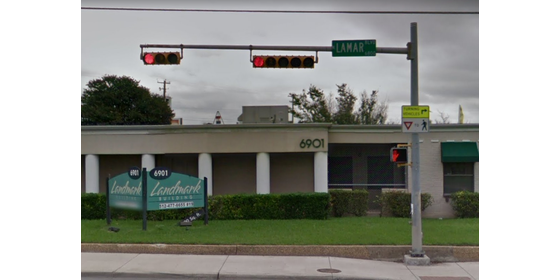street name sign: (330, 38, 383, 60)
